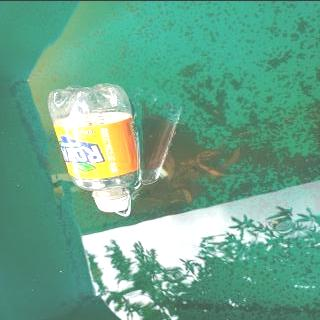bottle: (47, 82, 142, 212)
